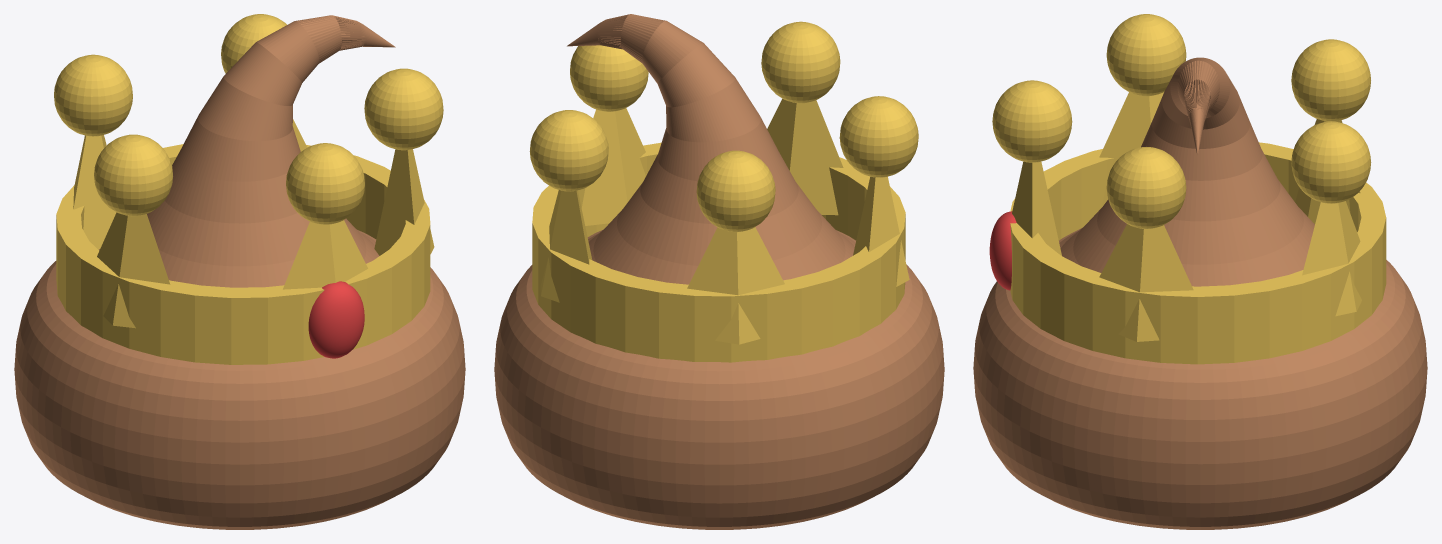
Rendered from head_var_hat-b.glb.
3 renders of one model, left to right at view 1: azimuth 30°, elevation 25°; view 2: azimuth 150°, elevation 25°; view 3: azimuth 270°, elevation 25°, orthographic.
Parts seen in each view (by area): view 1: tmp_head_02; view 2: tmp_head_02; view 3: tmp_head_02.
Boxes of the visible parts, x1,y1,x2,y2 form: tmp_head_02: (14, 14, 465, 529); tmp_head_02: (494, 14, 944, 529); tmp_head_02: (973, 14, 1427, 529).
Bounding box in the file's own units: 1.07 × 1.1 × 1.07.
